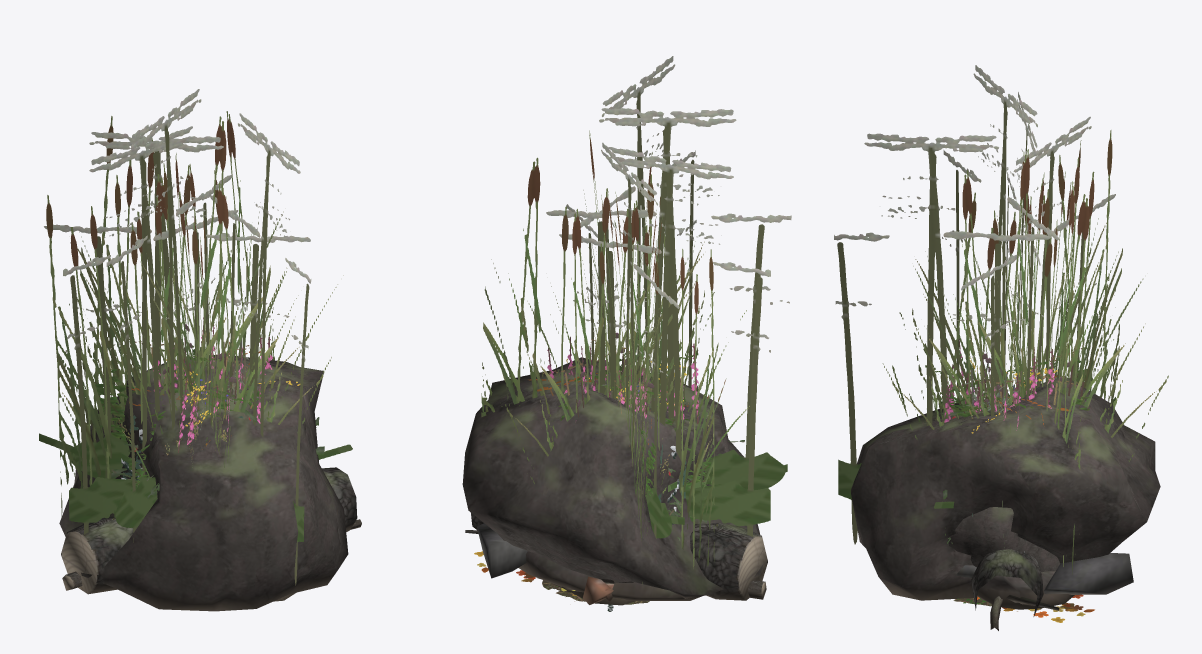
3 renders of one model, left to right at view 1: azimuth 30°, elevation 25°; view 2: azimuth 150°, elevation 25°; view 3: azimuth 270°, elevation 25°, orthographic.
Visible parts, largest first — view 1: gc_boulder_l|gc_K, gc_hogweed|gc_C, gc_reed|gc_B, gc_log|gc_D, gc_bush_a|gc_B, gc_fl_fireweed|gc_A; view 2: gc_boulder_l|gc_K, gc_hogweed|gc_C, gc_reed|gc_B, gc_log|gc_D, gc_boulder_f|gc_K, gc_rubble_conc|gc_K, gc_fl_fireweed|gc_A, gc_bush_a|gc_B, gc_rubble_brick|gc_K, gc_burdock|gc_C; view 3: gc_boulder_l|gc_K, gc_reed|gc_B, gc_hogweed|gc_C, gc_boulder|gc_K, gc_rubble_conc|gc_K, gc_log|gc_D, gc_boulder_f|gc_K, gc_fl_fireweed|gc_A, gc_gr_wormwood|gc_A, gc_branch|gc_D.
Part boxes in pixels (x1,y1,x2,y2): gc_boulder_l|gc_K: [59, 355, 348, 611]; gc_hogweed|gc_C: [39, 89, 352, 585]; gc_reed|gc_B: [46, 111, 343, 522]; gc_log|gc_D: [61, 467, 357, 594]; gc_bush_a|gc_B: [95, 343, 261, 485]; gc_fl_fireweed|gc_A: [152, 317, 272, 452]; gc_boulder_l|gc_K: [462, 357, 763, 598]; gc_hogweed|gc_C: [546, 56, 791, 538]; gc_reed|gc_B: [481, 130, 749, 584]; gc_log|gc_D: [471, 513, 767, 600]; gc_boulder_f|gc_K: [518, 551, 702, 600]; gc_rubble_conc|gc_K: [477, 523, 527, 578]; gc_fl_fireweed|gc_A: [547, 336, 698, 423]; gc_bush_a|gc_B: [519, 352, 711, 496]; gc_rubble_brick|gc_K: [583, 576, 613, 604]; gc_burdock|gc_C: [575, 332, 707, 521]; gc_boulder_l|gc_K: [851, 376, 1160, 600]; gc_reed|gc_B: [882, 130, 1168, 574]; gc_hogweed|gc_C: [834, 65, 1115, 544]; gc_boulder|gc_K: [948, 507, 1060, 572]; gc_rubble_conc|gc_K: [956, 553, 1133, 594]; gc_log|gc_D: [971, 549, 1043, 616]; gc_boulder_f|gc_K: [977, 571, 1074, 609]; gc_fl_fireweed|gc_A: [944, 339, 1054, 430]; gc_gr_wormwood|gc_A: [922, 363, 1021, 424]; gc_branch|gc_D: [990, 595, 1059, 630].
Size of the model in its own units: 1.38 by 2.12 by 1.42.
Materials: 6 (6 with a texture image).
